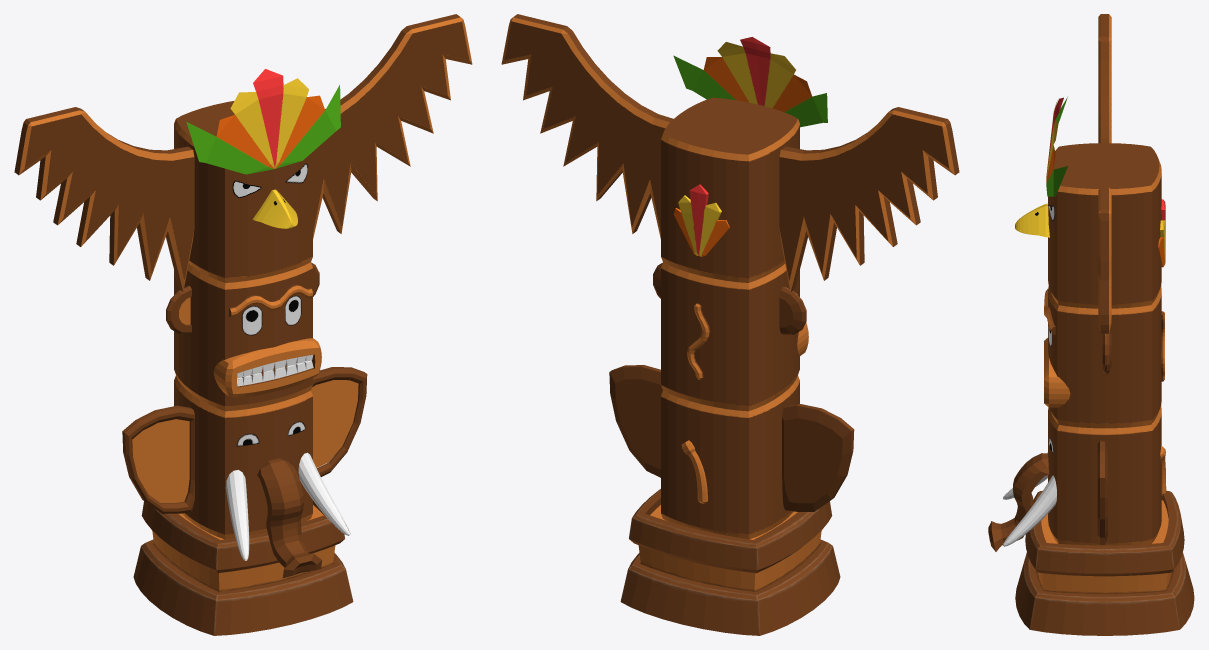
The model's file is totem.obj.
The picture shows the model from 3 angles, left to right: view 1: azimuth 30°, elevation 25°; view 2: azimuth 150°, elevation 25°; view 3: azimuth 270°, elevation 25°; orthographic projection. The views are drawn at different scales.
Visible parts, largest first — view 1: Cube.005_Cube.009, Cube.004_Cube.008, Pedestal.001_Plane.002, Cube.003_Cube.005; view 2: Cube.005_Cube.009, Cube.004_Cube.008, Pedestal.001_Plane.002, Cube.003_Cube.005; view 3: Cube.005_Cube.009, Pedestal.001_Plane.002, Cube.004_Cube.008, Cube.003_Cube.005.
Boxes of the visible parts, x1,y1,x2,y2 form: Cube.005_Cube.009: [14, 14, 472, 291]; Cube.004_Cube.008: [122, 367, 367, 578]; Pedestal.001_Plane.002: [133, 500, 353, 635]; Cube.003_Cube.005: [166, 262, 321, 411]; Cube.005_Cube.009: [501, 14, 959, 291]; Cube.004_Cube.008: [609, 365, 854, 539]; Pedestal.001_Plane.002: [620, 489, 840, 635]; Cube.003_Cube.005: [653, 262, 808, 411]; Cube.005_Cube.009: [1015, 14, 1165, 333]; Pedestal.001_Plane.002: [1015, 490, 1194, 635]; Cube.004_Cube.008: [988, 405, 1166, 551]; Cube.003_Cube.005: [1044, 286, 1164, 428].
Size of the model in its own units: 3.33 by 3.77 by 1.4.
